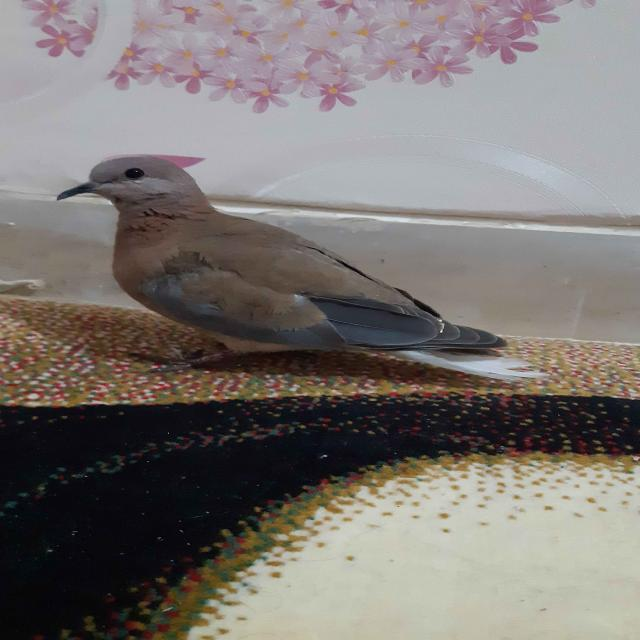bird: (49, 135, 544, 396)
